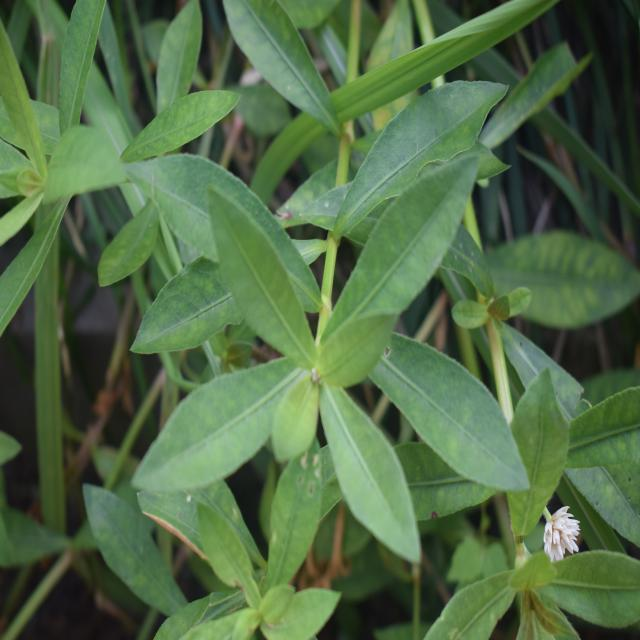Alligatorweed: (163, 134, 509, 577)
